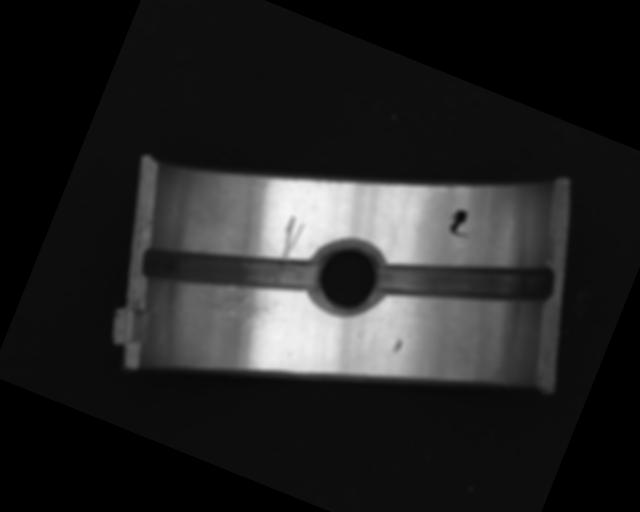blot: (444, 205, 477, 240)
bruise: (391, 336, 404, 355)
gap: (373, 212, 558, 350), (138, 203, 320, 334)
hole: (299, 229, 397, 326)
nick: (273, 214, 306, 264)
scratch: (174, 265, 287, 352)
